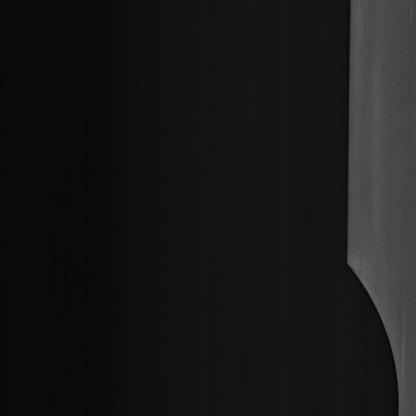crescent_gap: (338, 254, 406, 416)
